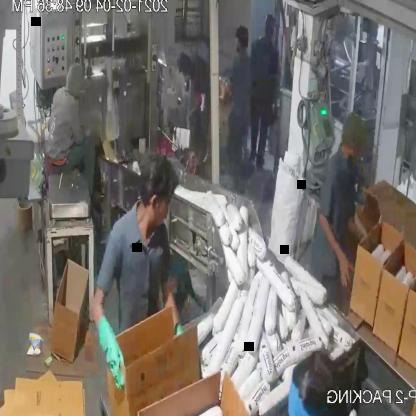glove: (92, 303, 138, 394)
no_glove: (302, 208, 362, 293)
